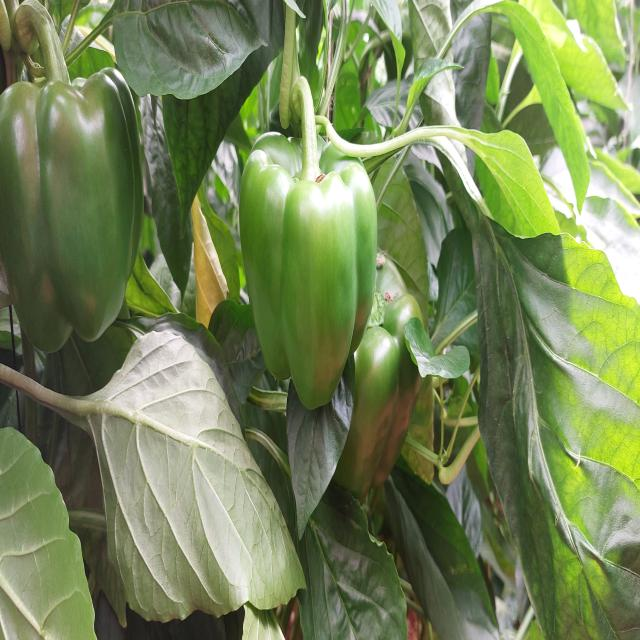Green--Not-ready-to-harvest: (0, 69, 133, 352), (243, 149, 377, 404)
